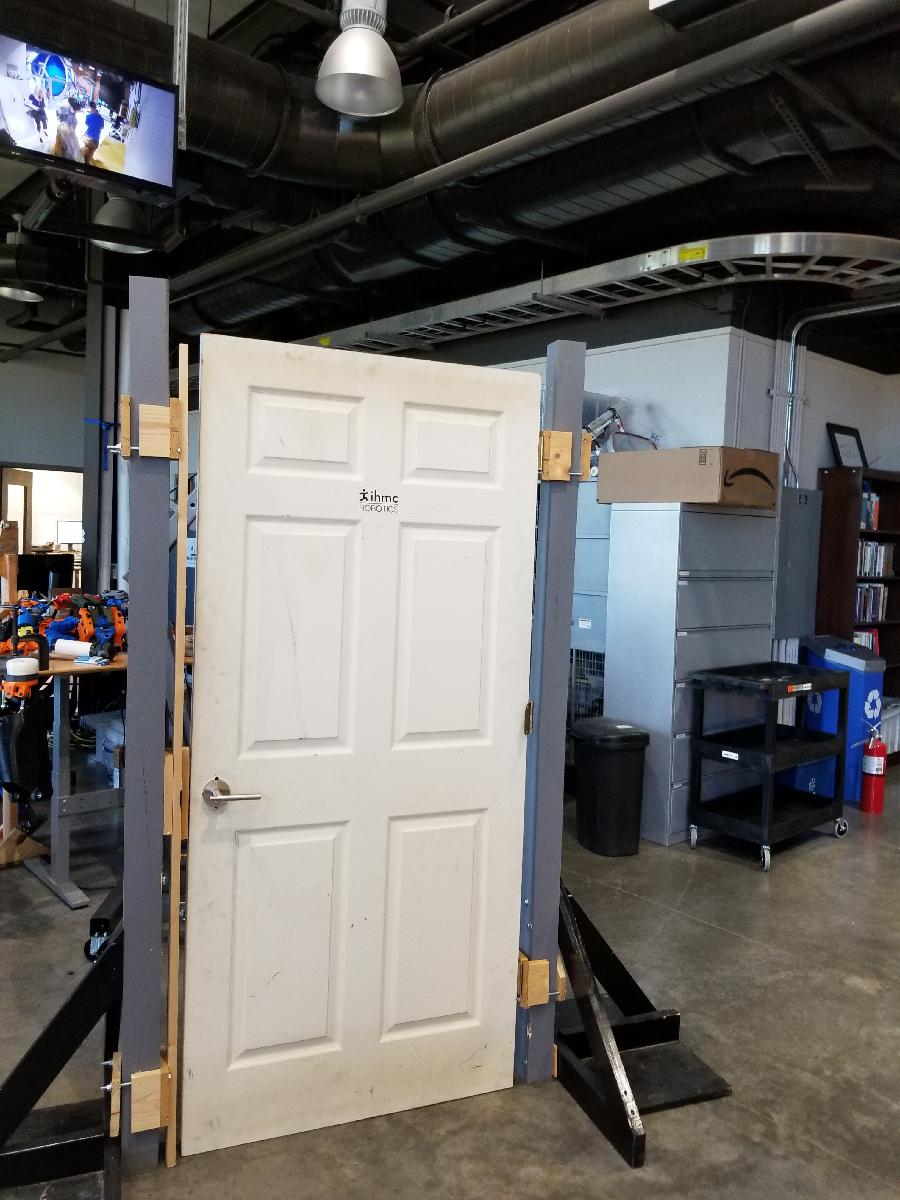door: (179, 326, 546, 1157)
doorHandle: (203, 775, 267, 809)
